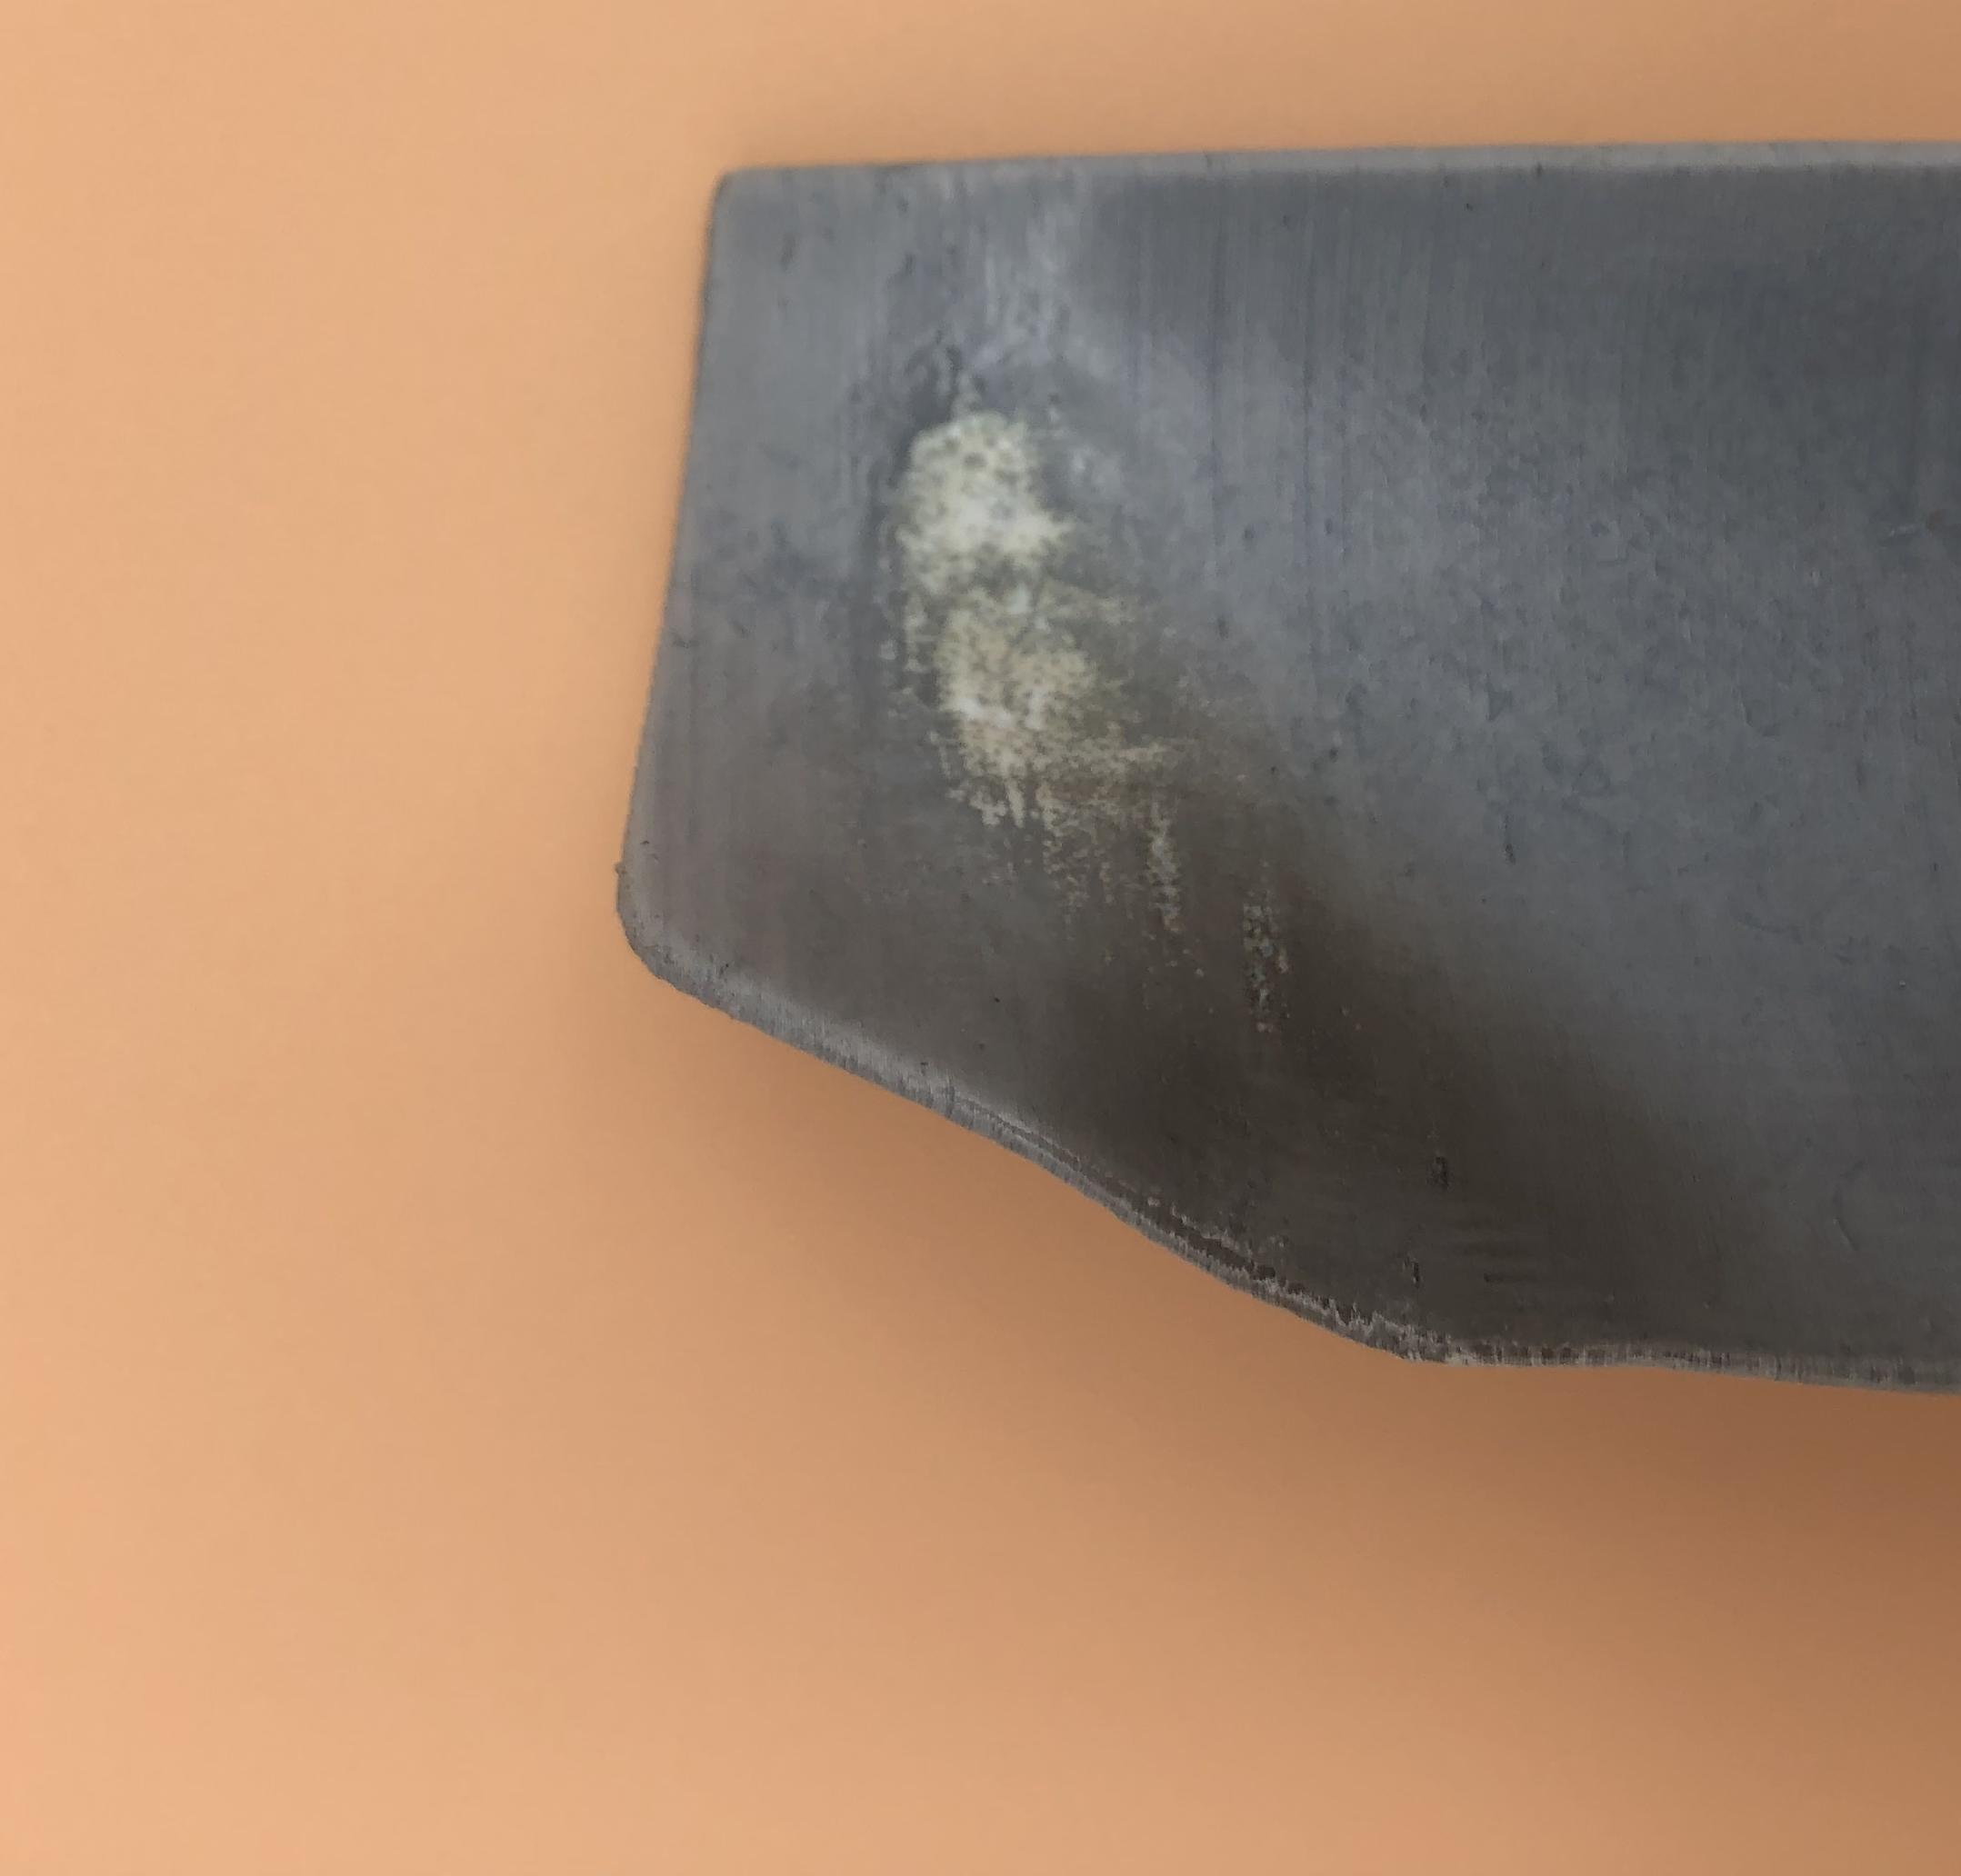ablation: (1110, 724, 1565, 1300)
